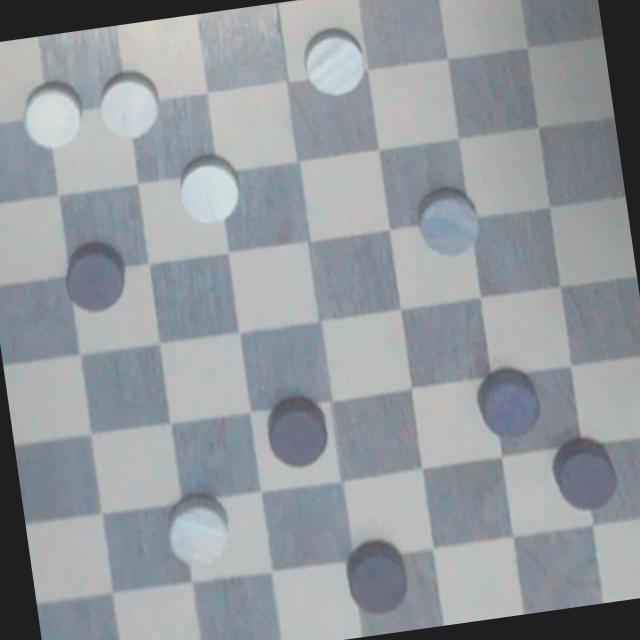BOARD: (0, 0, 640, 640)
black: (333, 525, 423, 617), (547, 425, 629, 523), (56, 236, 140, 323), (470, 358, 549, 444), (259, 388, 336, 473)
white: (407, 179, 492, 268), (170, 146, 253, 236), (160, 486, 236, 578), (298, 20, 378, 104), (94, 65, 170, 150), (14, 77, 89, 157)
